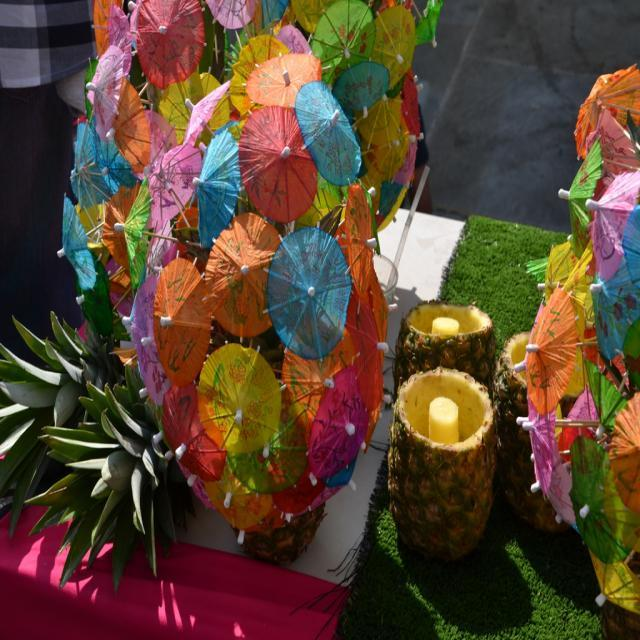Pineapple: (389, 357, 503, 550), (394, 295, 499, 403)
